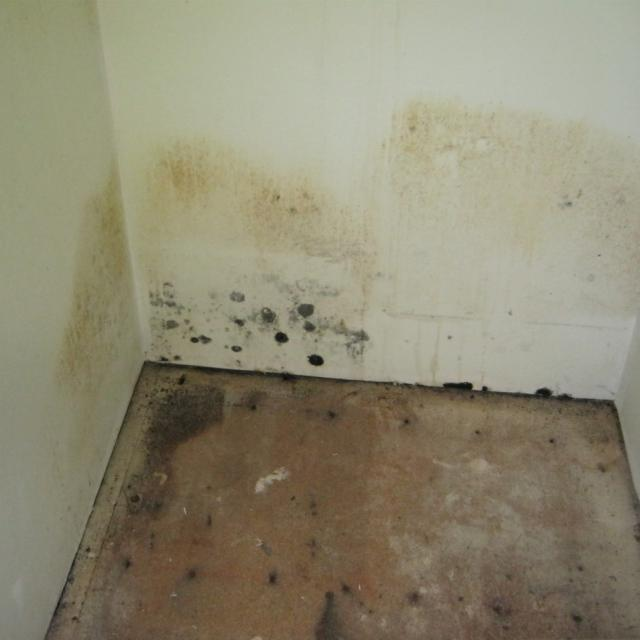leak: (44, 359, 638, 638)
